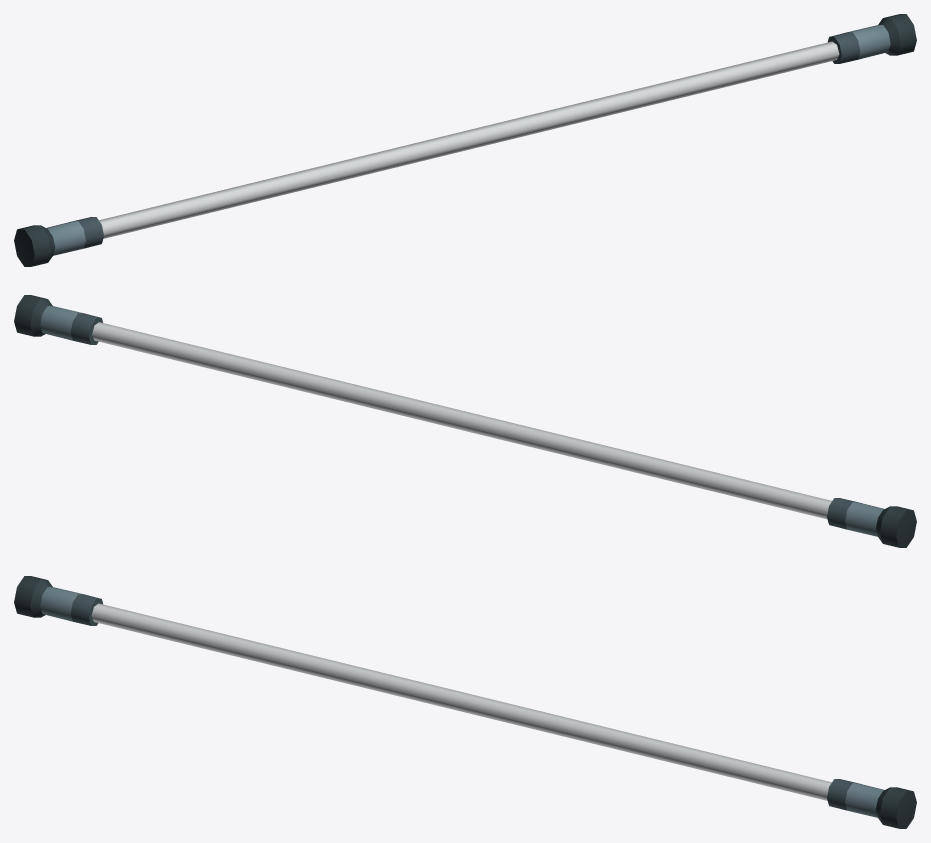
File: Cable_type_B_012.glb
The picture shows the model from 3 angles, top to bottom: view 1: azimuth 30°, elevation 25°; view 2: azimuth 150°, elevation 25°; view 3: azimuth 330°, elevation 25°; orthographic projection.
Parts seen in each view (by area): view 1: Cable_type_B_012; view 2: Cable_type_B_012; view 3: Cable_type_B_012.
Boxes of the visible parts, x1=… form: Cable_type_B_012: x1=14, y1=14, x2=916, y2=266; Cable_type_B_012: x1=14, y1=295, x2=916, y2=547; Cable_type_B_012: x1=14, y1=576, x2=916, y2=828.
Size of the model in its own units: 1.92 by 0.0783 by 0.0783.
Materials: 1 (1 with a texture image).
